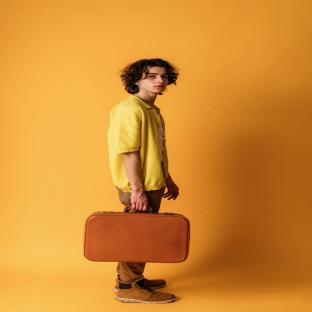Human: (108, 59, 179, 213), (114, 262, 175, 303)
